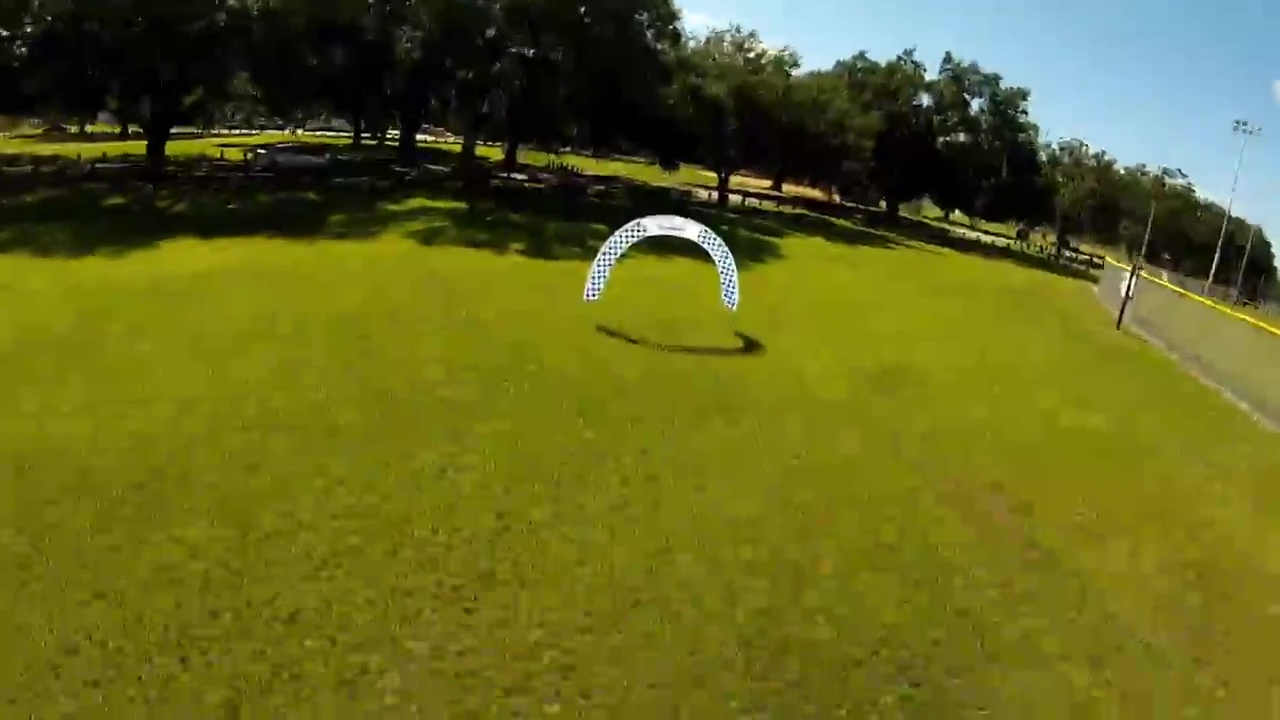gate: (583, 210, 739, 316)
